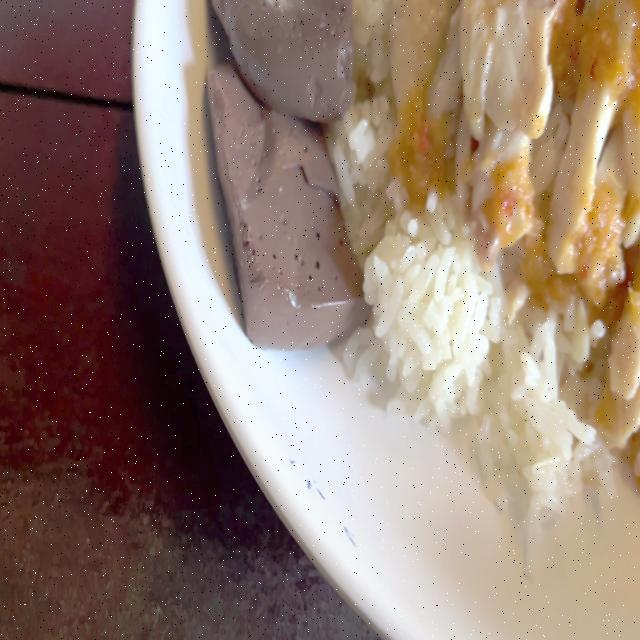boiled_chicken: (361, 0, 640, 414)
boiled_chicken_blood_jelly: (211, 55, 352, 354), (197, 0, 351, 127)
chicken_rice: (206, 0, 640, 561)
